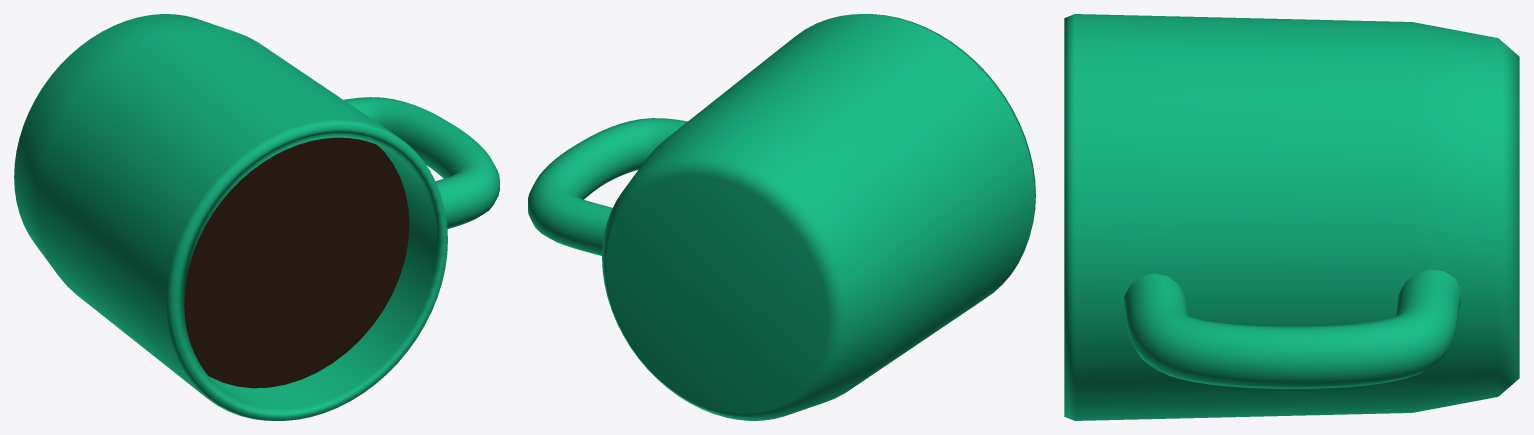
Rendered from tea_cup.obj.
3 views of the same model, side by side, from view 1: azimuth 30°, elevation 25°; view 2: azimuth 150°, elevation 25°; view 3: azimuth 270°, elevation 25° (orthographic). The views are drawn at different scales.
Parts seen in each view (by area): view 1: tea_cup_0_0, tea_cup_1_650, tea_cup_0_700; view 2: tea_cup_0_0, tea_cup_0_700; view 3: tea_cup_0_0, tea_cup_0_700.
Part boxes in pixels (<box>): tea_cup_0_0: <box>14,14,447,420</box>; tea_cup_1_650: <box>184,137,409,388</box>; tea_cup_0_700: <box>344,97,499,228</box>; tea_cup_0_0: <box>602,14,1035,420</box>; tea_cup_0_700: <box>528,118,687,255</box>; tea_cup_0_0: <box>1064,14,1519,420</box>; tea_cup_0_700: <box>1124,269,1460,388</box>.
Size of the model in its own units: 0.1056 by 0.076 by 0.085.
